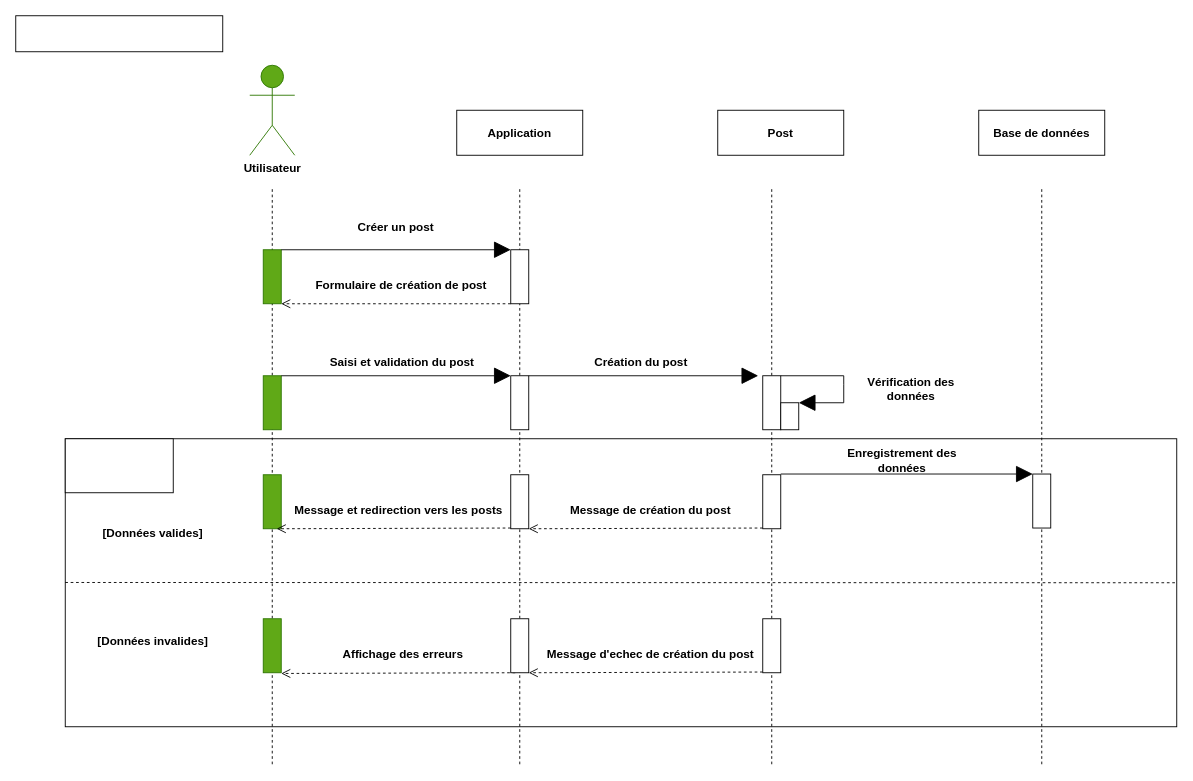
Image size: 1193x781. Some labels were removed from this diagram. Each missing label, with the centre of its shape:
"alt" goes at pixel 118 465.
"sd créer un post" goes at pixel 119 33.
